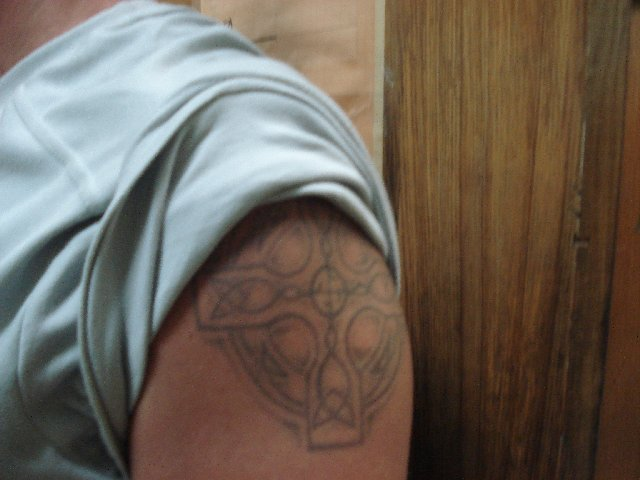tatu9_krest: (207, 219, 392, 456)
